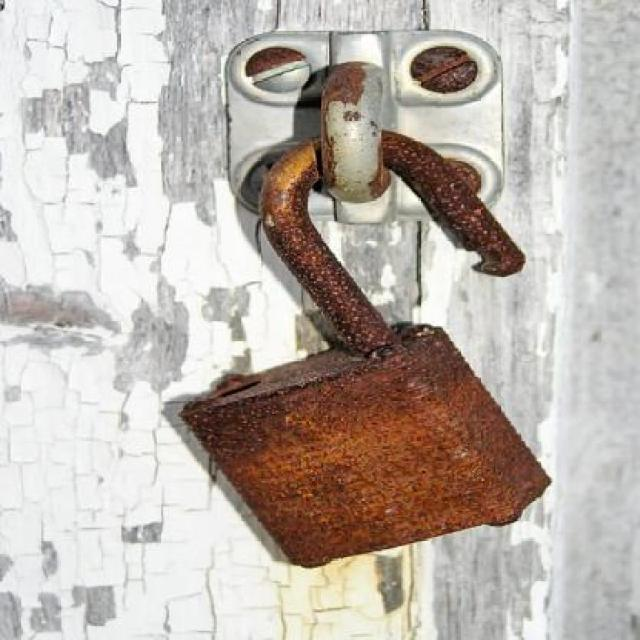corrosion: (172, 34, 572, 568)
